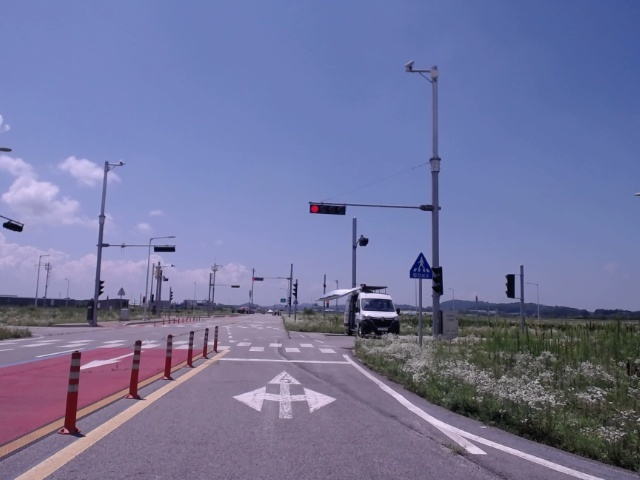red_4: (309, 204, 346, 215)
